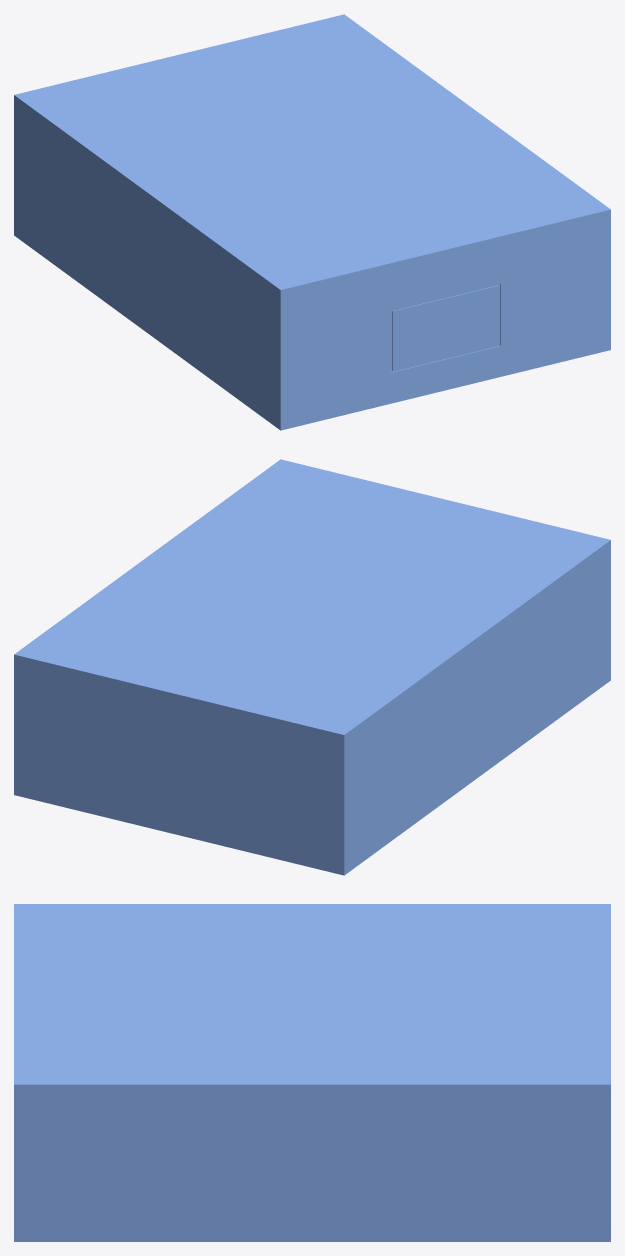
File: class room.fbx
3 views of the same model, one above another, from view 1: azimuth 30°, elevation 25°; view 2: azimuth 150°, elevation 25°; view 3: azimuth 270°, elevation 25° (orthographic). The views are drawn at different scales.
Visible parts, largest first — view 1: Cube; view 2: Cube; view 3: Cube.
Part boxes in pixels (<box>): Cube: <box>14,14,610,430</box>; Cube: <box>14,459,610,875</box>; Cube: <box>14,904,610,1241</box>.
Bounding box in the file's own units: 593 × 241 × 829.
